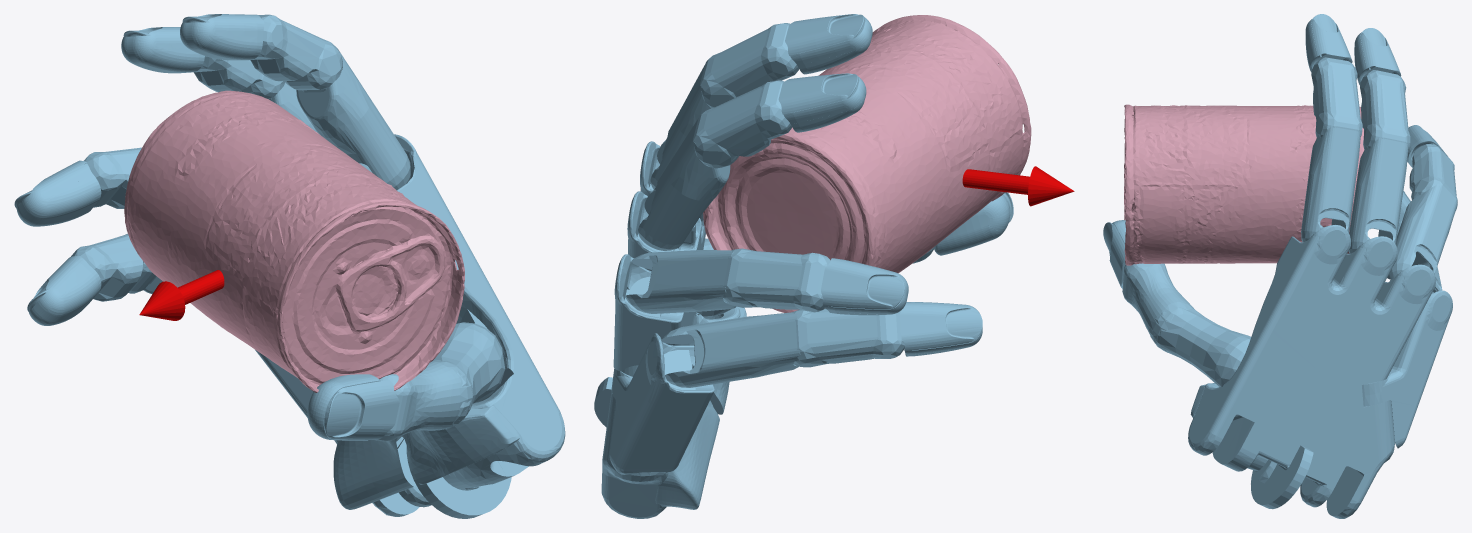
3 renders of one model, left to right at view 1: azimuth 30°, elevation 25°; view 2: azimuth 150°, elevation 25°; view 3: azimuth 270°, elevation 25°, orthographic. The views are drawn at different scales.
Parts seen in each view (by area): view 1: world, tomato_soup_can.stl; view 2: world, tomato_soup_can.stl; view 3: world, tomato_soup_can.stl.
Part boxes in pixels (x1,y1,x2,y2): world: (14, 14, 565, 518); tomato_soup_can.stl: (124, 90, 464, 392); world: (594, 14, 1074, 518); tomato_soup_can.stl: (703, 15, 1031, 312); world: (1103, 14, 1457, 518); tomato_soup_can.stl: (1124, 104, 1364, 265).
Bounding box in the file's own units: 0.1603 × 0.1949 × 0.1484.
